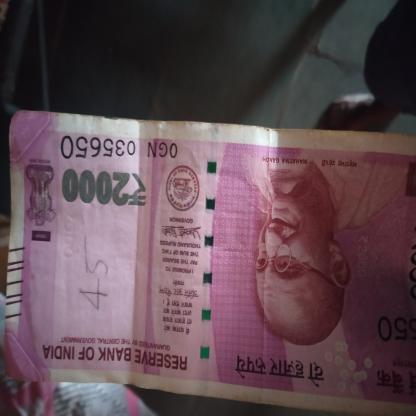New2000Front: (11, 114, 415, 406)
